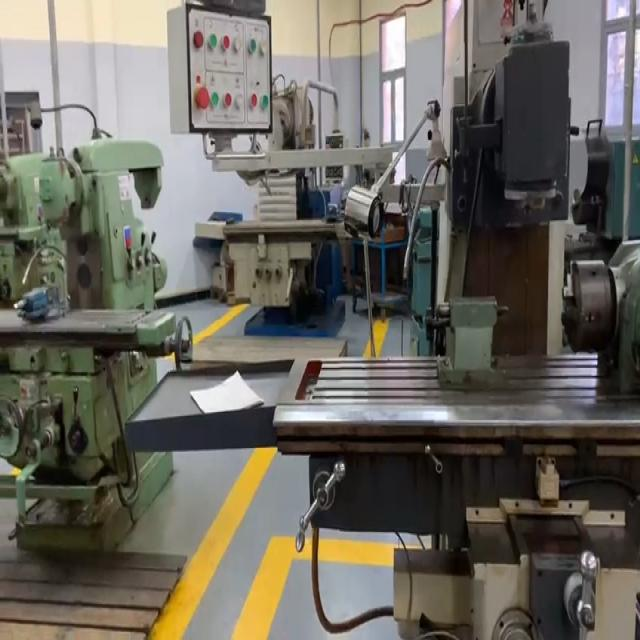fraiseuse: (126, 0, 640, 638), (161, 0, 640, 640)
